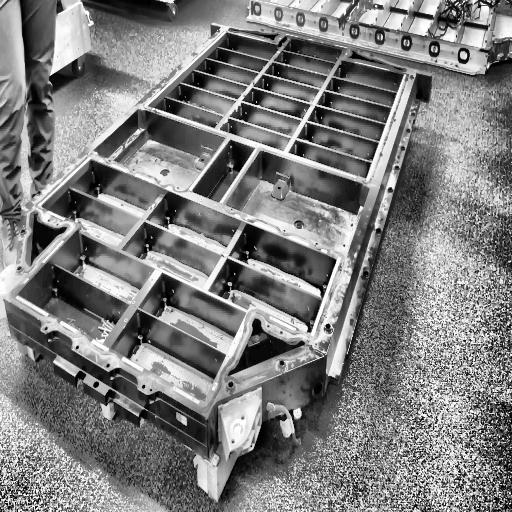b_casing: (4, 16, 435, 421)
